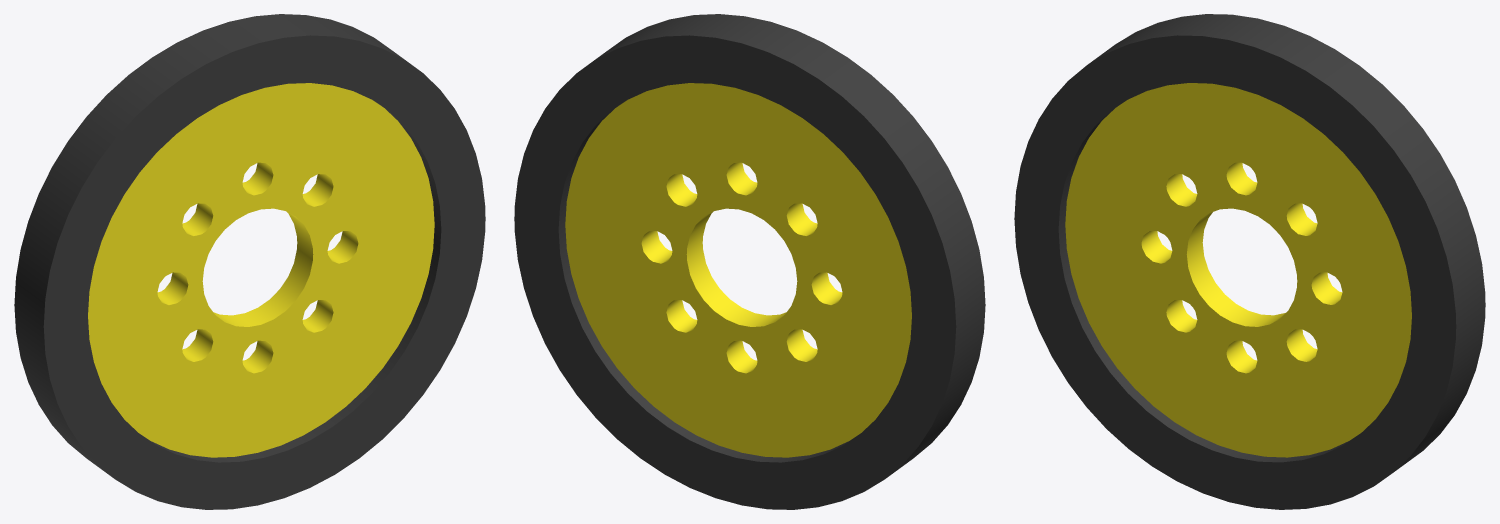
File: ROB-12342.obj
3 renders of one model, left to right at view 1: azimuth 30°, elevation 25°; view 2: azimuth 150°, elevation 25°; view 3: azimuth 330°, elevation 25°, orthographic.
Visible parts, largest first — view 1: mesh 2 Boss-Extrude1, mesh 1 RO; view 2: mesh 2 Boss-Extrude1, mesh 1 RO; view 3: mesh 2 Boss-Extrude1, mesh 1 RO.
Boxes of the visible parts, bbox=[...] form: mesh 2 Boss-Extrude1: bbox=[88, 83, 434, 457]; mesh 1 RO: bbox=[14, 14, 485, 509]; mesh 2 Boss-Extrude1: bbox=[565, 83, 911, 457]; mesh 1 RO: bbox=[514, 14, 985, 509]; mesh 2 Boss-Extrude1: bbox=[1065, 83, 1411, 457]; mesh 1 RO: bbox=[1014, 14, 1485, 509].
Bounding box in the file's own units: 0.0508 × 0.0508 × 0.00584.
